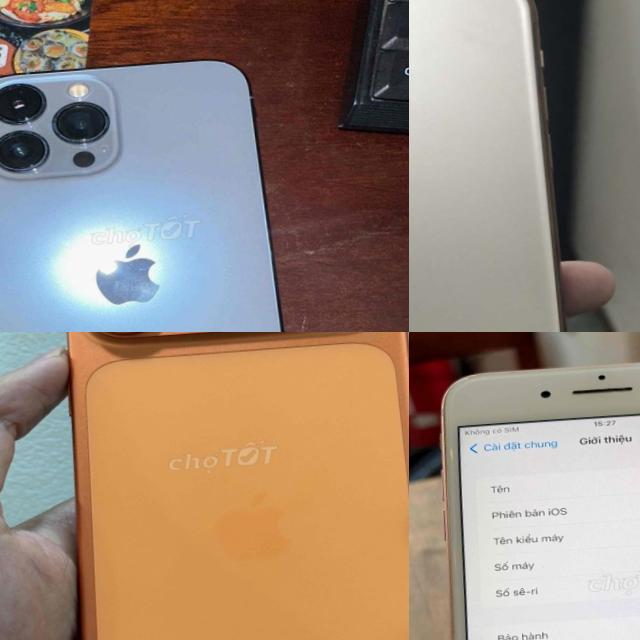gen_11: (409, 0, 598, 332)
gen_12_13: (0, 45, 306, 332)
gen_17: (44, 332, 409, 640)
gen_7_8: (424, 346, 640, 640)
